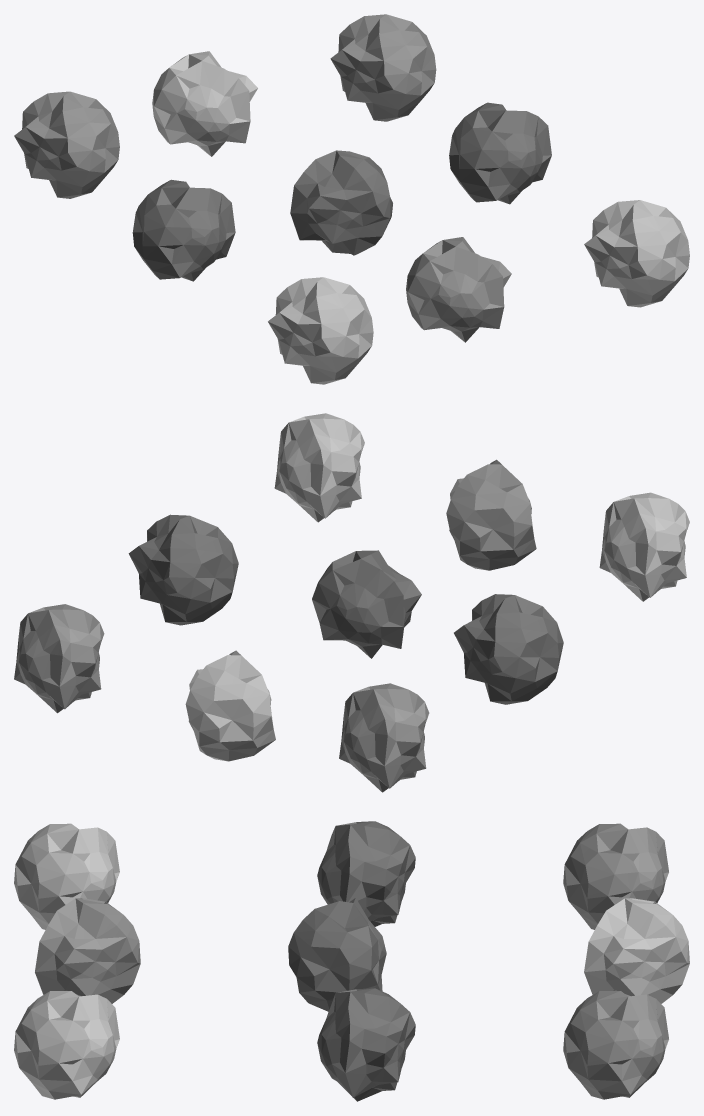
Rendered from Asteroids.fbx.
The picture shows the model from 3 angles, top to bottom: view 1: azimuth 30°, elevation 25°; view 2: azimuth 150°, elevation 25°; view 3: azimuth 270°, elevation 25°; orthographic projection. The views are drawn at different scales.
Visible parts, largest first — view 1: Icosphere.013, Icosphere.016, Icosphere.012, Icosphere.020, Icosphere.018, Icosphere.015, Icosphere.014, Icosphere.017, Icosphere.019; view 2: Icosphere.015, Icosphere.014, Icosphere.018, Icosphere.017, Icosphere.020, Icosphere.013, Icosphere.019, Icosphere.016, Icosphere.012; view 3: Icosphere.013, Icosphere.016, Icosphere.019, Icosphere.017, Icosphere.014, Icosphere.012, Icosphere.020, Icosphere.018, Icosphere.015.
Part boxes in pixels (bbox=[...]): Icosphere.013: bbox=[584, 200, 689, 307]; Icosphere.016: bbox=[330, 14, 436, 121]; Icosphere.012: bbox=[268, 277, 373, 384]; Icosphere.020: bbox=[14, 91, 119, 198]; Icosphere.018: bbox=[290, 150, 392, 255]; Icosphere.015: bbox=[132, 179, 235, 281]; Icosphere.014: bbox=[449, 102, 551, 204]; Icosphere.017: bbox=[152, 51, 257, 156]; Icosphere.019: bbox=[406, 237, 511, 342]; Icosphere.015: bbox=[454, 594, 563, 704]; Icosphere.014: bbox=[128, 514, 238, 625]; Icosphere.018: bbox=[312, 550, 421, 658]; Icosphere.017: bbox=[185, 650, 275, 761]; Icosphere.020: bbox=[339, 683, 429, 792]; Icosphere.013: bbox=[274, 413, 364, 522]; Icosphere.019: bbox=[446, 459, 536, 570]; Icosphere.016: bbox=[14, 604, 104, 713]; Icosphere.012: bbox=[599, 492, 689, 601]; Icosphere.013: bbox=[14, 991, 119, 1099]; Icosphere.016: bbox=[563, 991, 668, 1099]; Icosphere.019: bbox=[35, 898, 140, 1003]; Icosphere.017: bbox=[584, 898, 689, 1003]; Icosphere.014: bbox=[317, 988, 415, 1101]; Icosphere.012: bbox=[14, 823, 119, 929]; Icosphere.020: bbox=[563, 823, 668, 929]; Icosphere.018: bbox=[288, 898, 386, 1011]; Icosphere.015: bbox=[317, 821, 415, 926].
Size of the model in its own units: 473 by 109 by 626.
1 material, 1 textured.
